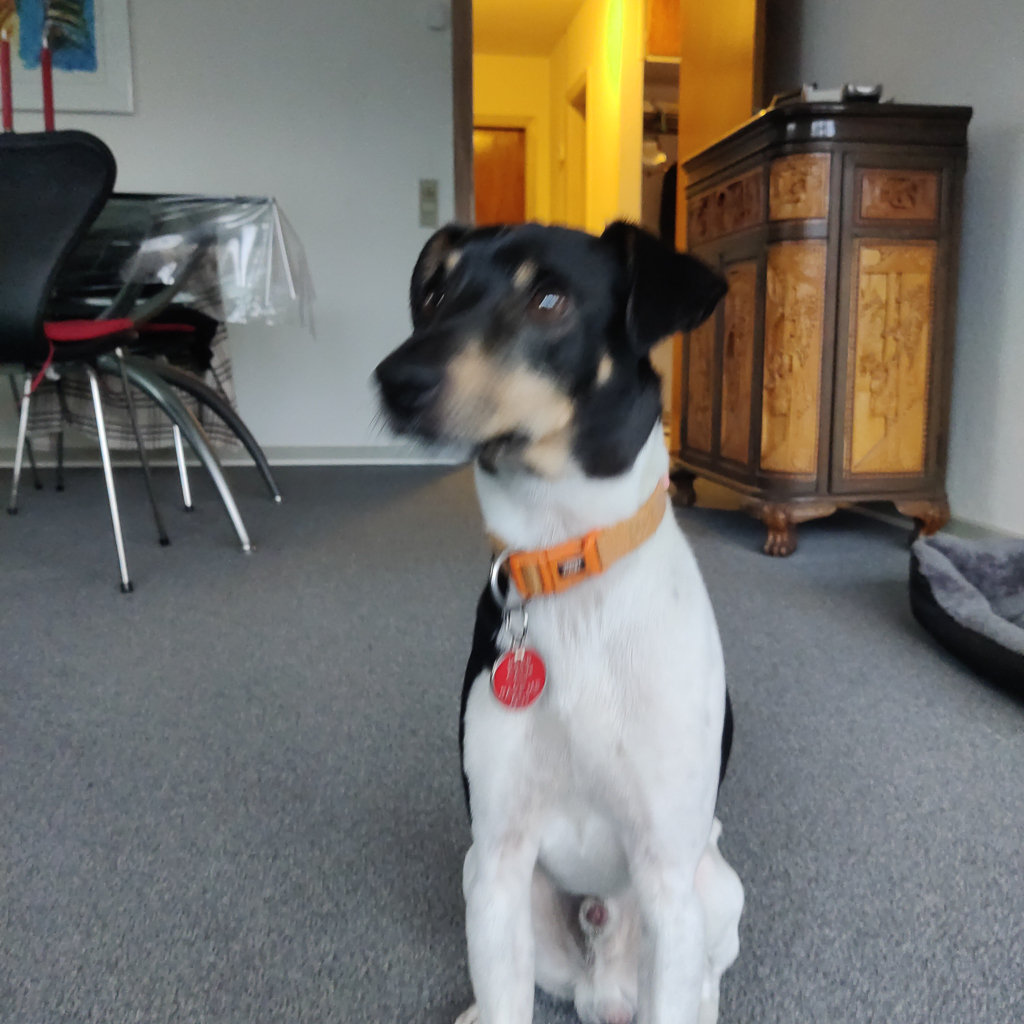Dog: (342, 207, 803, 1024)
